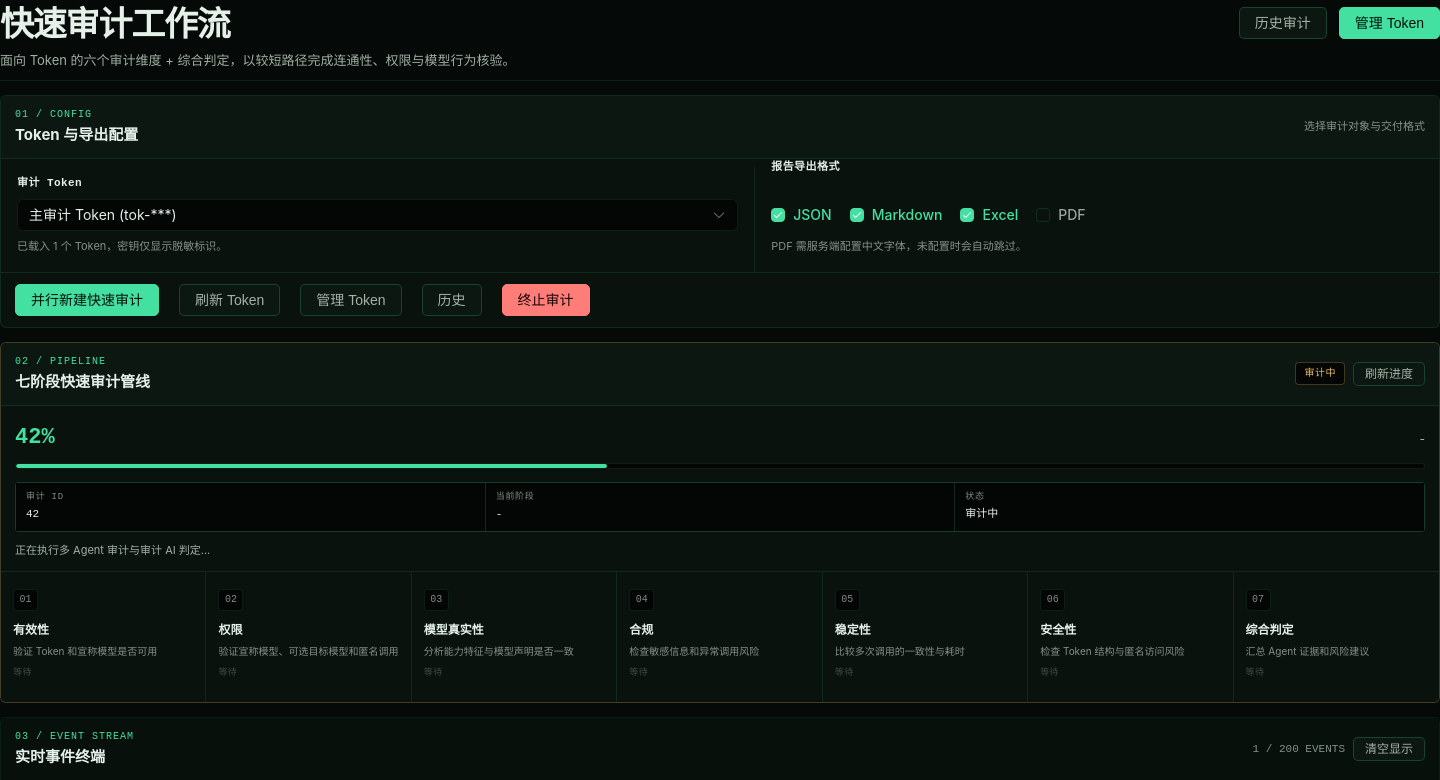
Test case: AuditForm terminal display clearing › uses increasing event ids as the clear boundary
Click the button "清空显示".
click(1389, 749)  # box [1353,737,1425,761]
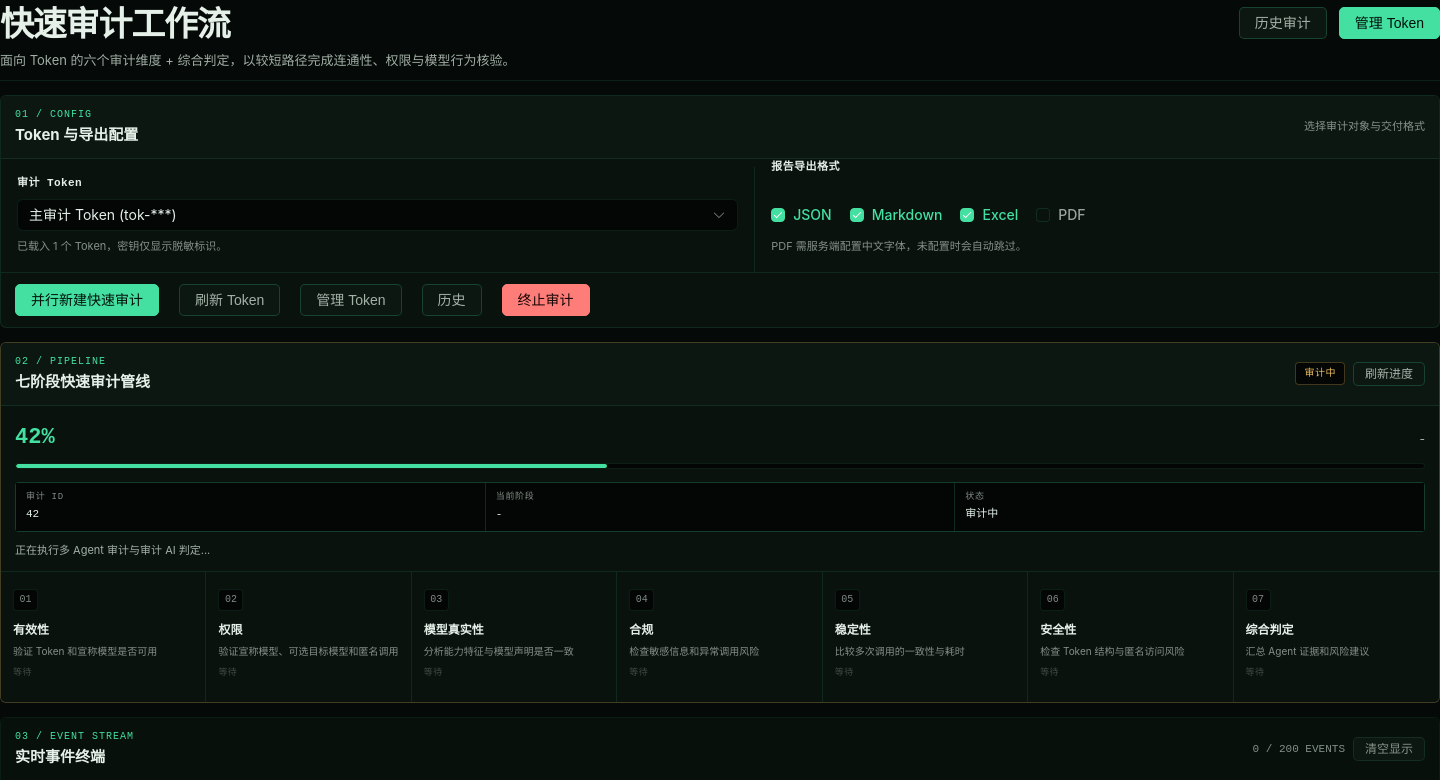
Click the button "刷新进度".
click(1389, 374)  # box [1353,362,1425,386]
(page scrolled)
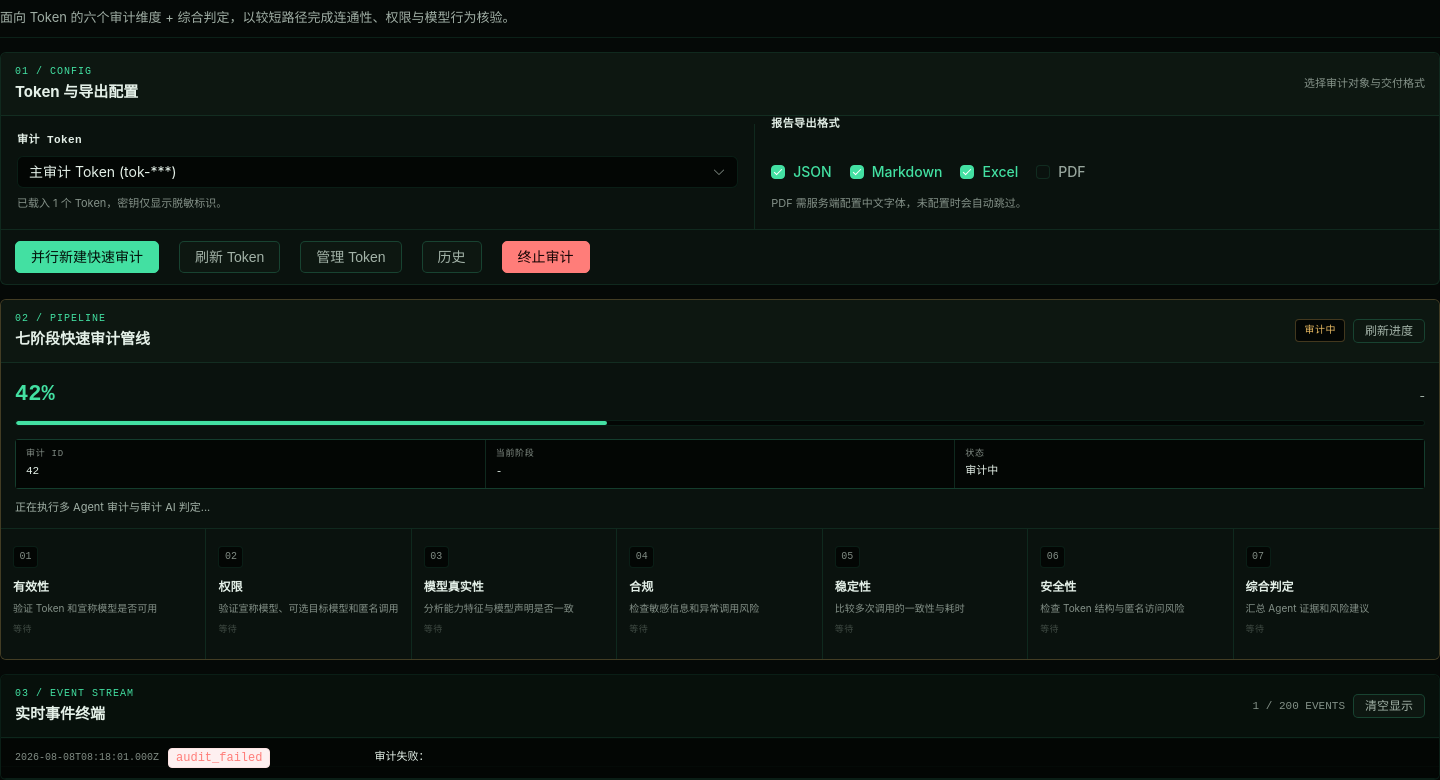
Check: the element with test id "event-tag" reads "audit_failed", box [176,750,262,764]
